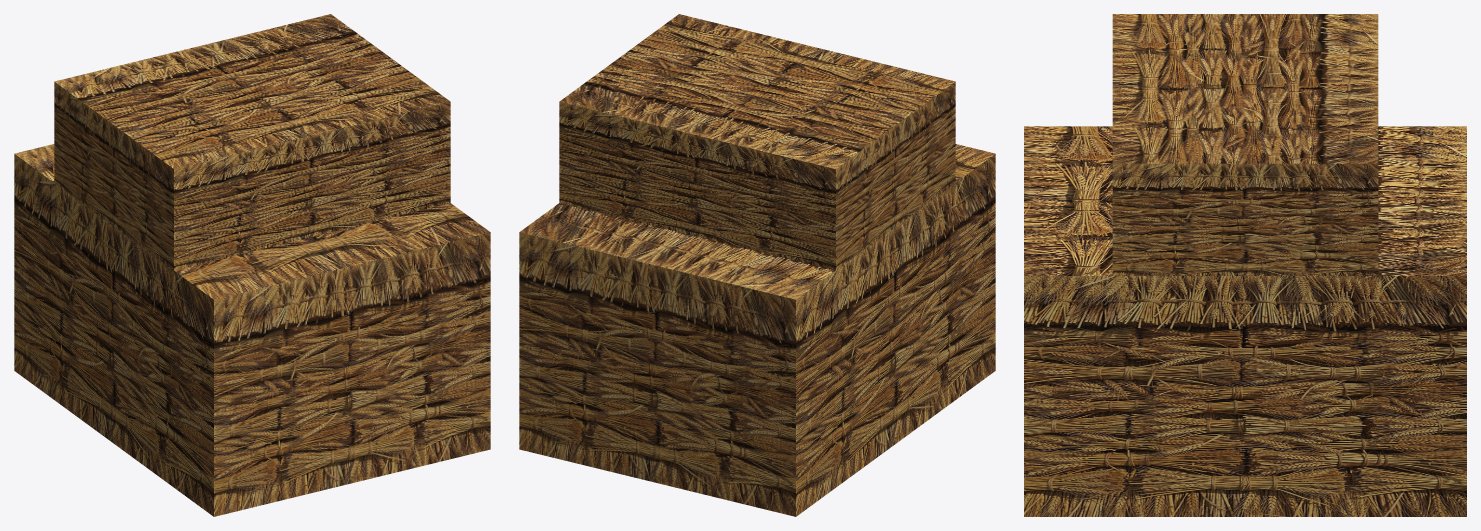
The model's file is fisherman.obj.
The picture shows the model from 3 angles, left to right: view 1: azimuth 30°, elevation 25°; view 2: azimuth 150°, elevation 25°; view 3: azimuth 270°, elevation 25°; orthographic projection. The views are drawn at different scales.
Visible parts, largest first — view 1: building; view 2: building; view 3: building.
Boxes of the visible parts, <box> form: building: <box>14,14,490,516</box>; building: <box>519,14,995,516</box>; building: <box>1024,14,1466,516</box>.
Bounding box in the file's own units: 2 × 2.2 × 2.5.
